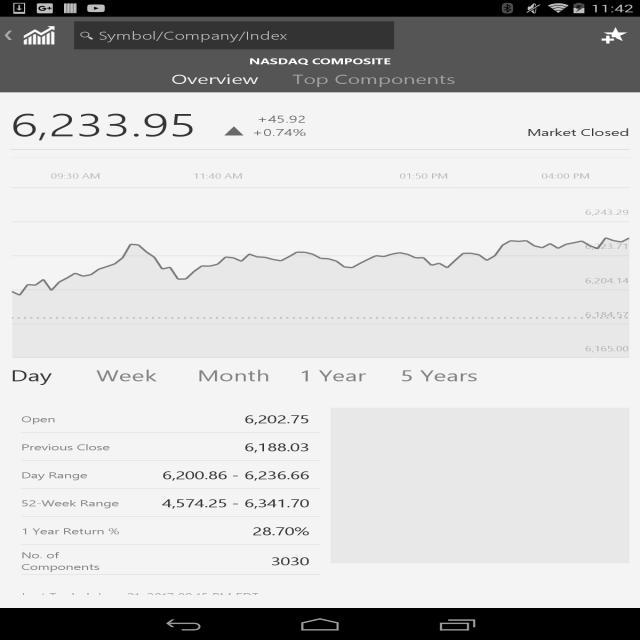EditText: (74, 22, 394, 49)
ImageView: (331, 408, 629, 563), (14, 19, 64, 52), (0, 30, 17, 41)
TextView: (11, 99, 196, 149), (0, 54, 640, 68), (306, 124, 629, 140), (282, 68, 479, 92), (21, 589, 258, 603), (21, 548, 139, 574), (160, 68, 282, 92), (162, 466, 320, 484), (162, 494, 320, 512), (96, 363, 192, 388), (198, 363, 294, 388), (298, 363, 394, 388), (400, 363, 496, 388), (10, 363, 90, 388), (589, 17, 640, 54), (21, 412, 139, 426), (21, 440, 139, 454), (21, 468, 139, 482), (21, 496, 139, 510), (21, 524, 139, 538), (244, 410, 320, 428), (244, 438, 320, 456), (252, 522, 320, 540), (271, 552, 320, 570), (223, 99, 245, 138), (252, 124, 306, 138), (252, 111, 306, 124)
